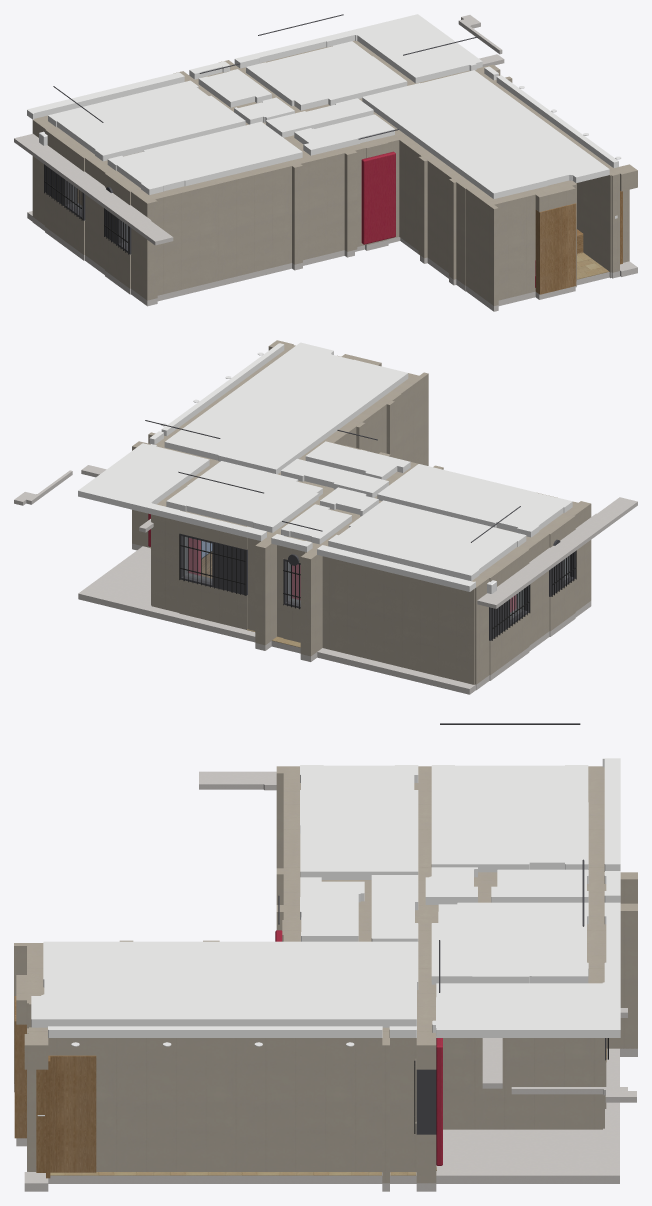
File: kk_unit_A.glb
3 views of the same model, one above another, from view 1: azimuth 30°, elevation 25°; view 2: azimuth 150°, elevation 25°; view 3: azimuth 270°, elevation 25° (orthographic). The views are drawn at different scales.
Parts seen in each view (by area): view 1: Ceiling, ArchWalls, Chajja, Slab, DoorFrames, curtain_0, WindowFrames, curtain_0.001, Railings, Floor_A0_living; view 2: Ceiling, ArchWalls, Slab, WindowFrames, Chajja, Railings, Glass; view 3: Ceiling, ArchWalls, Slab, DoorFrames, Chajja, WindowFrames, Floor_A1_passage, curtain_2.001.
Boxes of the visible parts, x1=… form: Ceiling: x1=27, y1=14, x2=618, y2=198; ArchWalls: x1=32, y1=40, x2=637, y2=305; Chajja: x1=14, y1=15, x2=504, y2=245; Slab: x1=27, y1=211, x2=637, y2=311; DoorFrames: x1=535, y1=191, x2=622, y2=294; curtain_0: x1=361, y1=155, x2=380, y2=244; WindowFrames: x1=45, y1=165, x2=131, y2=254; curtain_0.001: x1=379, y1=151, x2=395, y2=240; Railings: x1=44, y1=164, x2=128, y2=254; Floor_A0_living: x1=577, y1=252, x2=609, y2=279; Ceiling: x1=78, y1=342, x2=572, y2=591; ArchWalls: x1=132, y1=340, x2=591, y2=684; Slab: x1=78, y1=543, x2=591, y2=694; WindowFrames: x1=179, y1=533, x2=575, y2=640; Chajja: x1=14, y1=465, x2=637, y2=608; Railings: x1=179, y1=534, x2=576, y2=640; Glass: x1=185, y1=537, x2=569, y2=618; Ceiling: x1=31, y1=758, x2=620, y2=1037; ArchWalls: x1=14, y1=766, x2=637, y2=1183; Slab: x1=14, y1=1048, x2=637, y2=1191; DoorFrames: x1=14, y1=996, x2=96, y2=1178; Chajja: x1=199, y1=771, x2=636, y2=1102; WindowFrames: x1=416, y1=1038, x2=606, y2=1134; Floor_A1_passage: x1=50, y1=1172, x2=381, y2=1175; curtain_2.001: x1=436, y1=1038, x2=442, y2=1165.
Size of the model in its own units: 12.9 by 3.66 by 10.45.
Materials: 37 (17 with a texture image).
